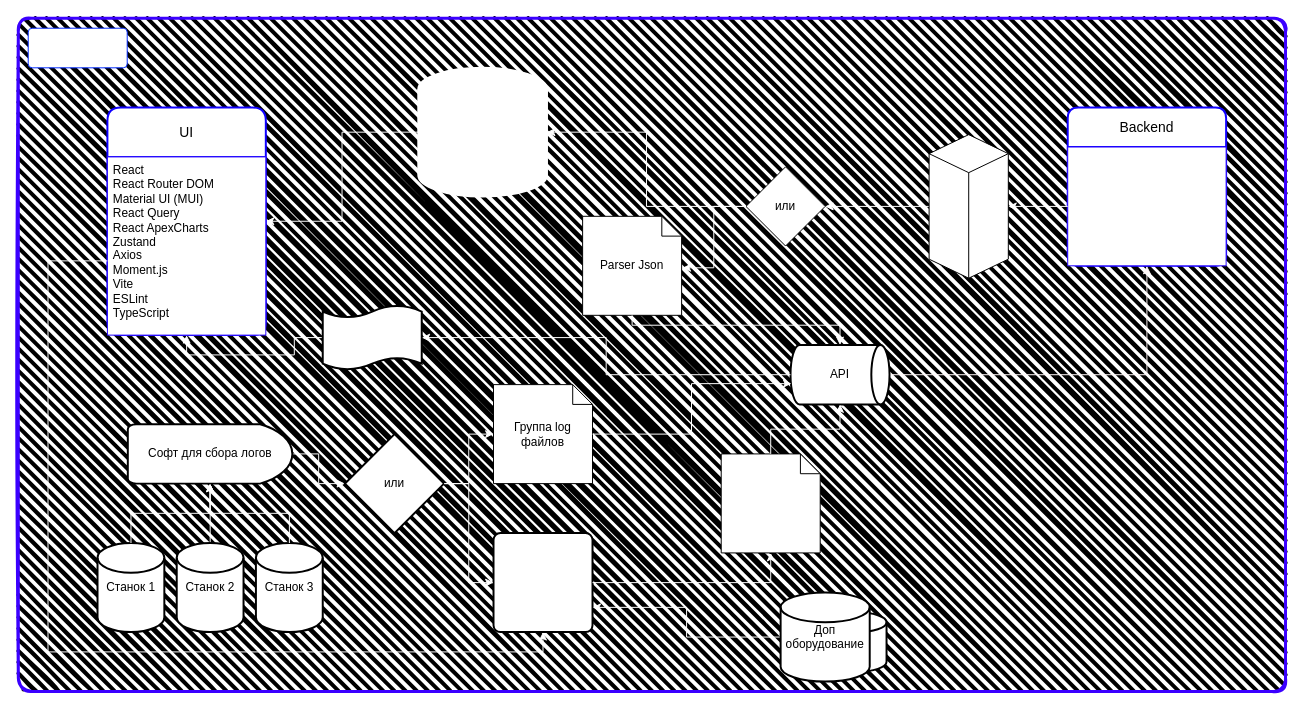
The diagram is 1304 pixels wide and 710 high, and some of its shapes have lost their labels. Here are the shapes that lost their labels. From the top down, the centre of each, then its label:
At (x=77, y=47): "Работа с линией".
At (x=482, y=131): "Test Bd Postgres Sql".
At (x=968, y=206): "сервер".
At (x=371, y=337): "Список json".
At (x=770, y=503): "Log".
At (x=542, y=582): "Главный пк".
